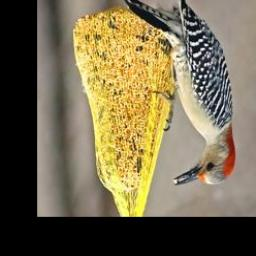Woodpecker: (114, 0, 252, 195)
